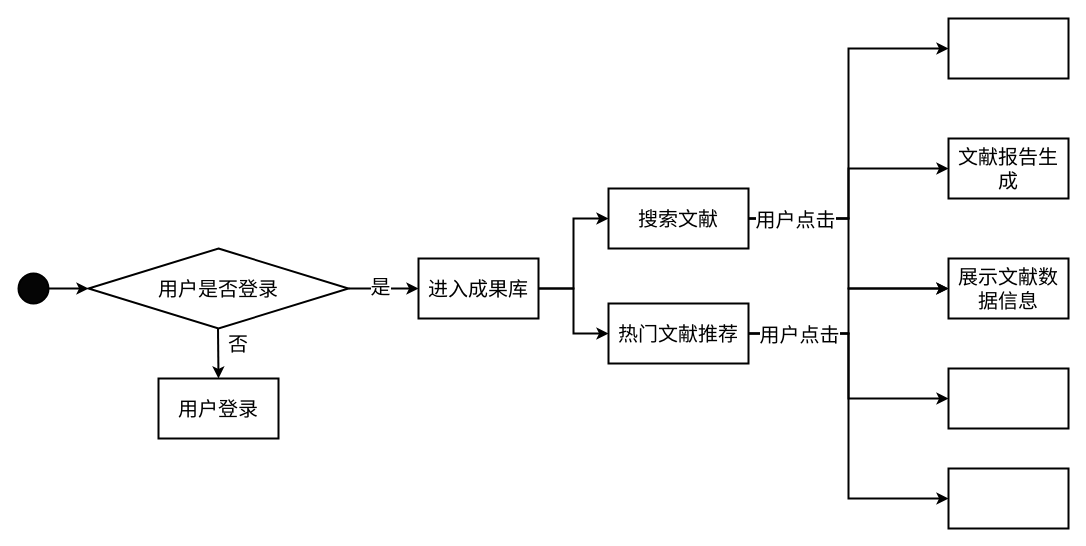
The diagram is 1086 pixels wide and 546 high, and some of its shapes have lost their labels. The box of each missing label's shape, as (x1, y1, x2, y2) in pixels:
文献下载: (947, 17, 1069, 79)
文献点赞收藏: (947, 367, 1069, 429)
文献评论: (947, 467, 1069, 529)
